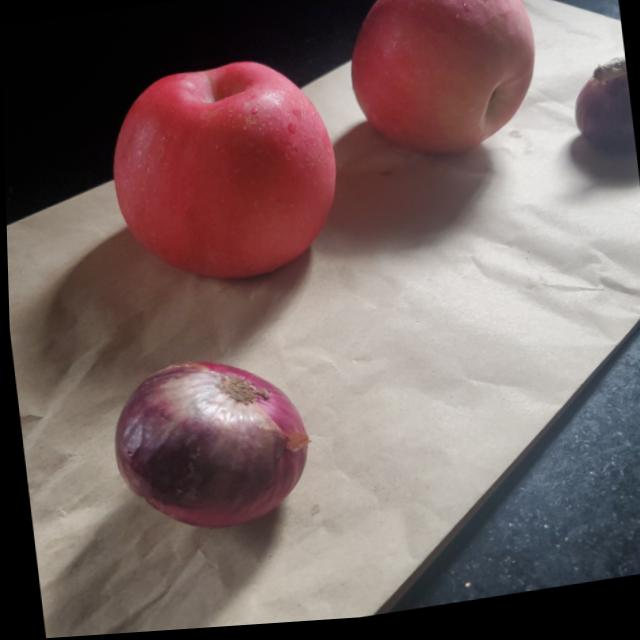apple: (101, 47, 348, 293), (336, 0, 544, 174)
onion: (107, 347, 316, 540), (568, 64, 634, 166)
